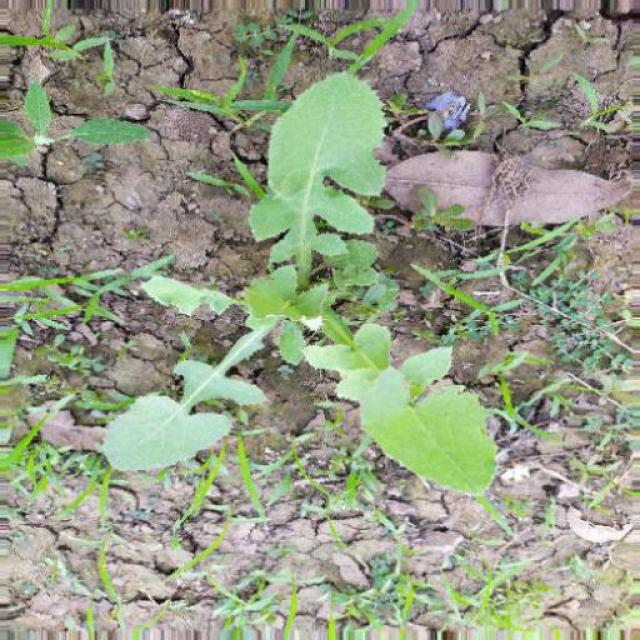weed: (95, 54, 577, 534)
